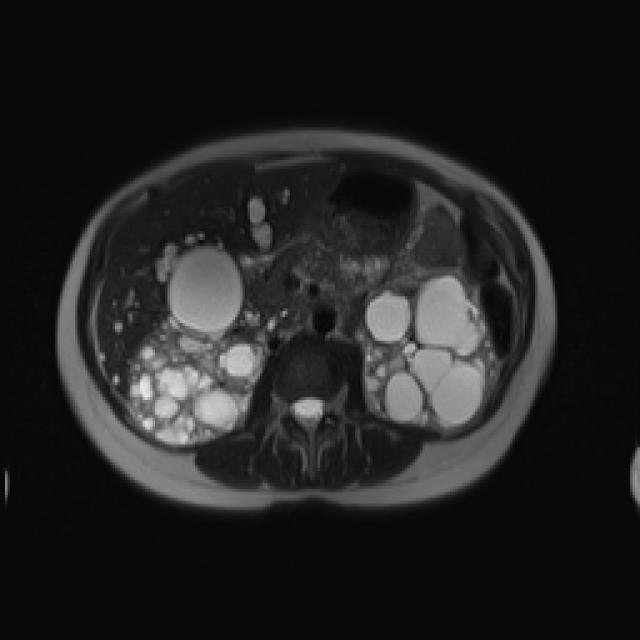sag: (125, 246, 265, 446)
sol: (358, 272, 494, 430)
